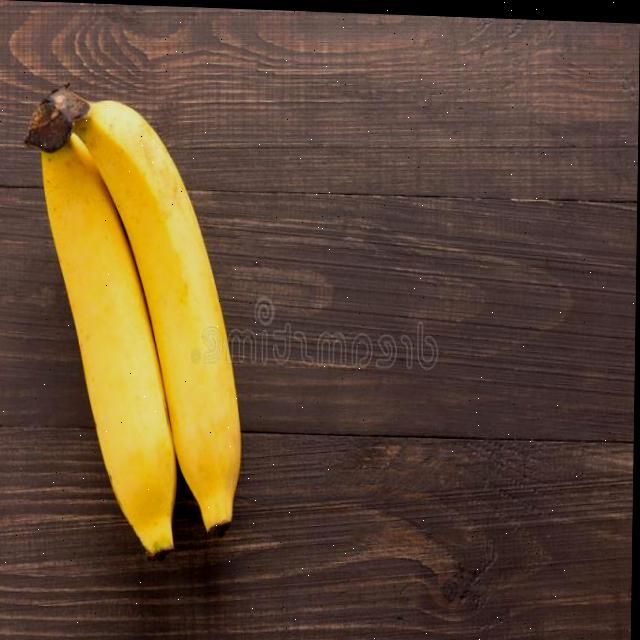banana: (12, 76, 249, 571)
